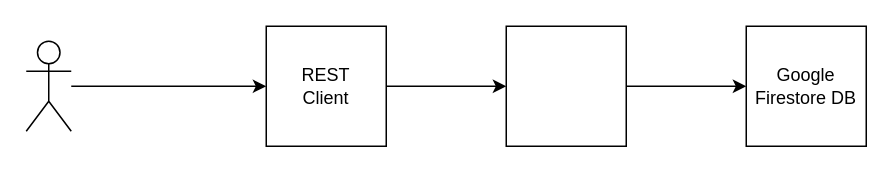
The diagram is 893 pixels wide and 189 high, and some of its shapes have lost their labels. The box of each missing label's shape, as (x1, y1, x2, y2) in pixels:
Spring Boot Server: (505, 25, 626, 146)
User: (25, 40, 71, 131)
